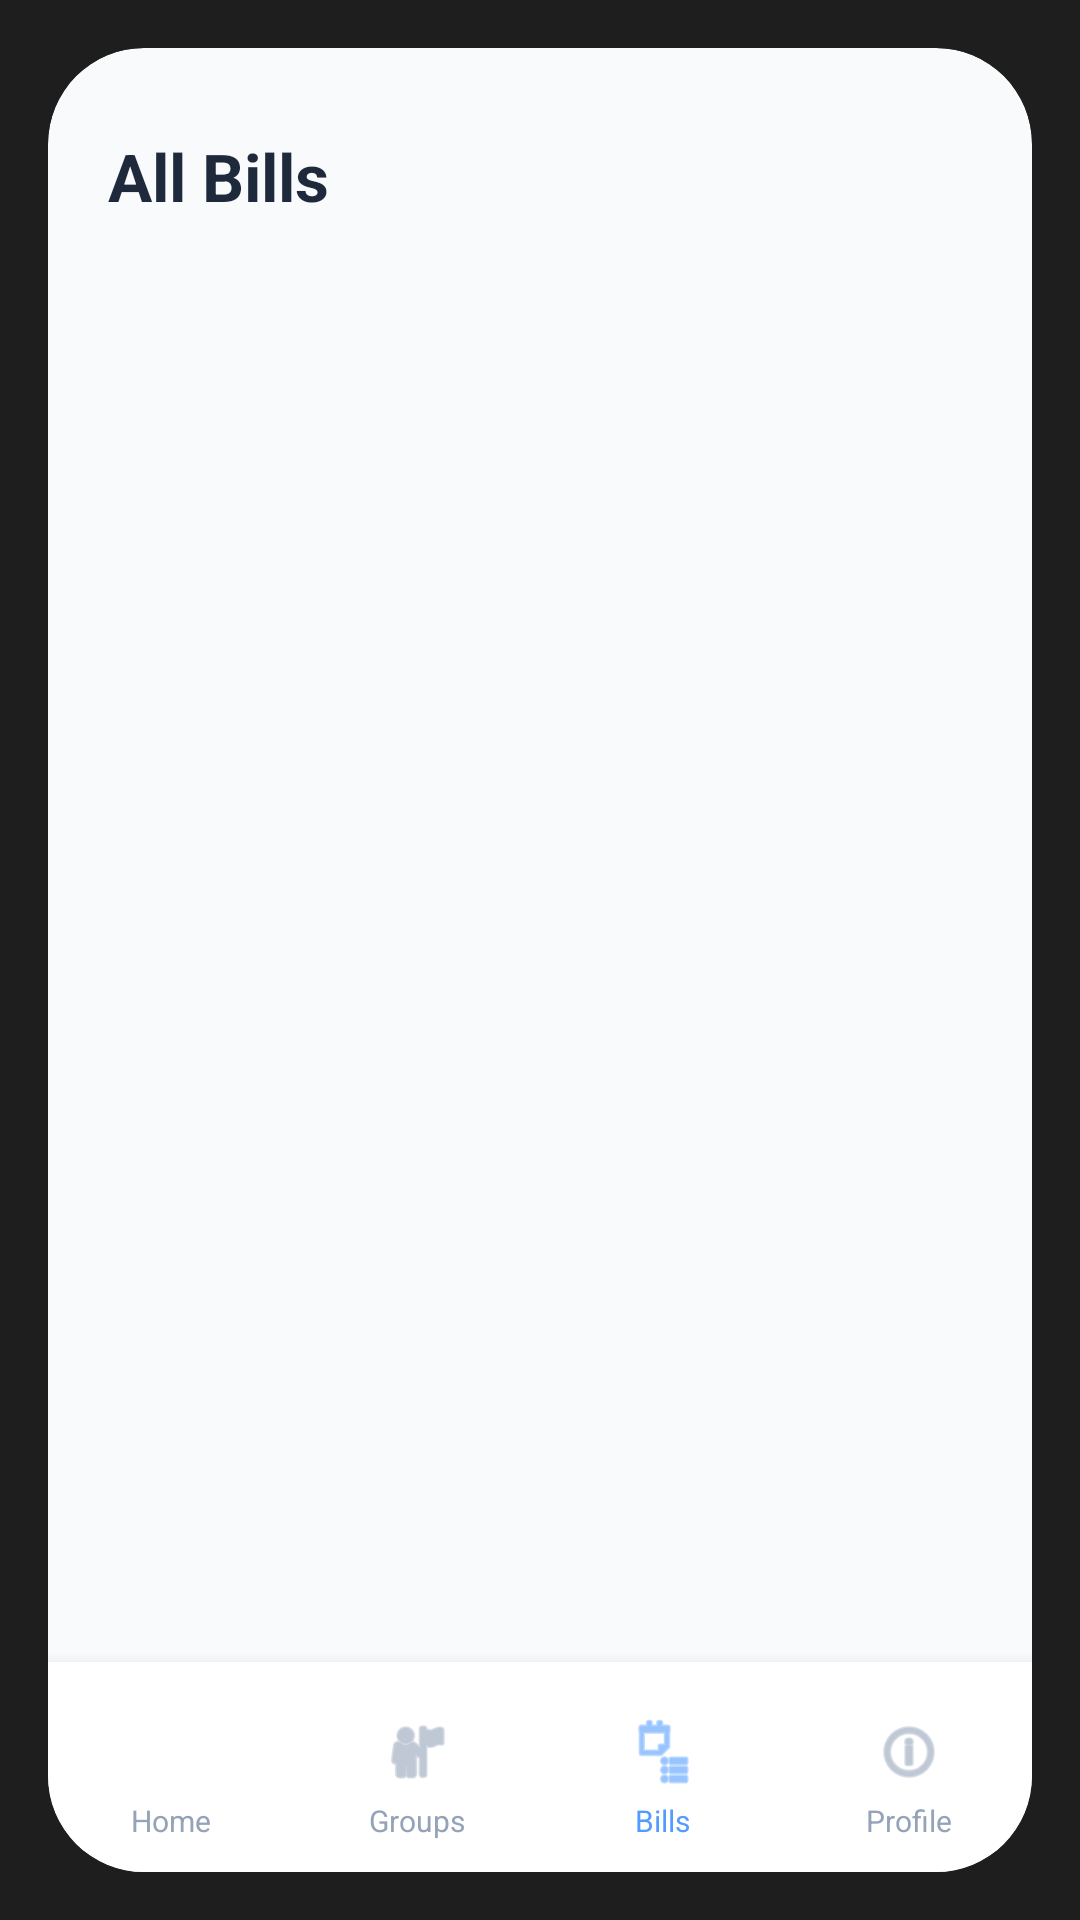

Point at icon controls on the screen. Image size 1080x1920, points as (x,y).
agenda: (663,1752)
info details: (909,1752)
